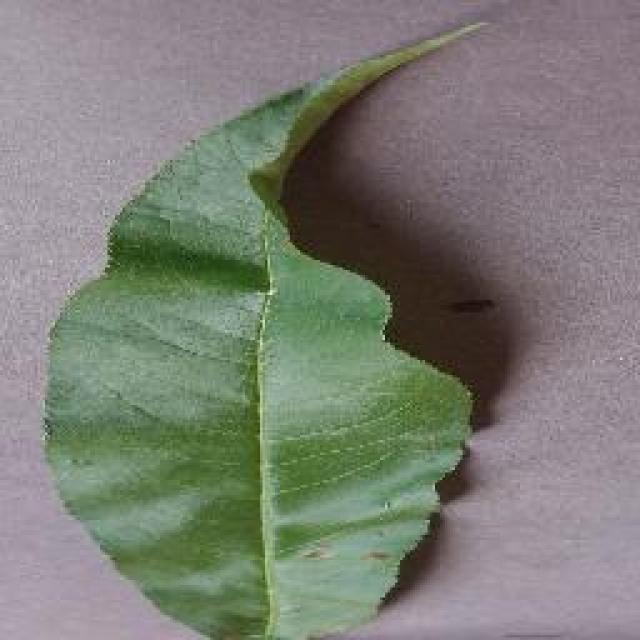Peach_Bacterial_Spot: (153, 402, 410, 582)
